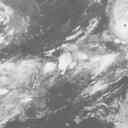cyclone: (111, 10, 127, 39), (42, 61, 59, 77)
